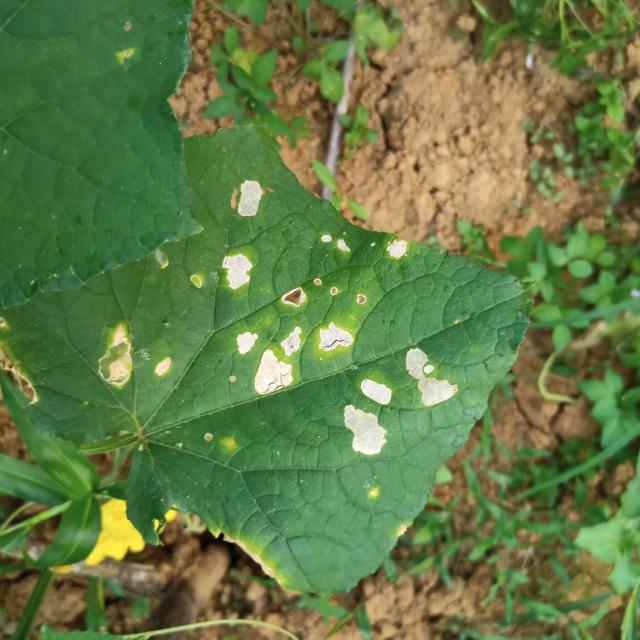disease_cucumber: (234, 287, 355, 398), (96, 324, 174, 387), (341, 376, 395, 459), (403, 344, 460, 409), (219, 252, 254, 293), (236, 178, 264, 218), (318, 230, 354, 258), (383, 235, 410, 265)
